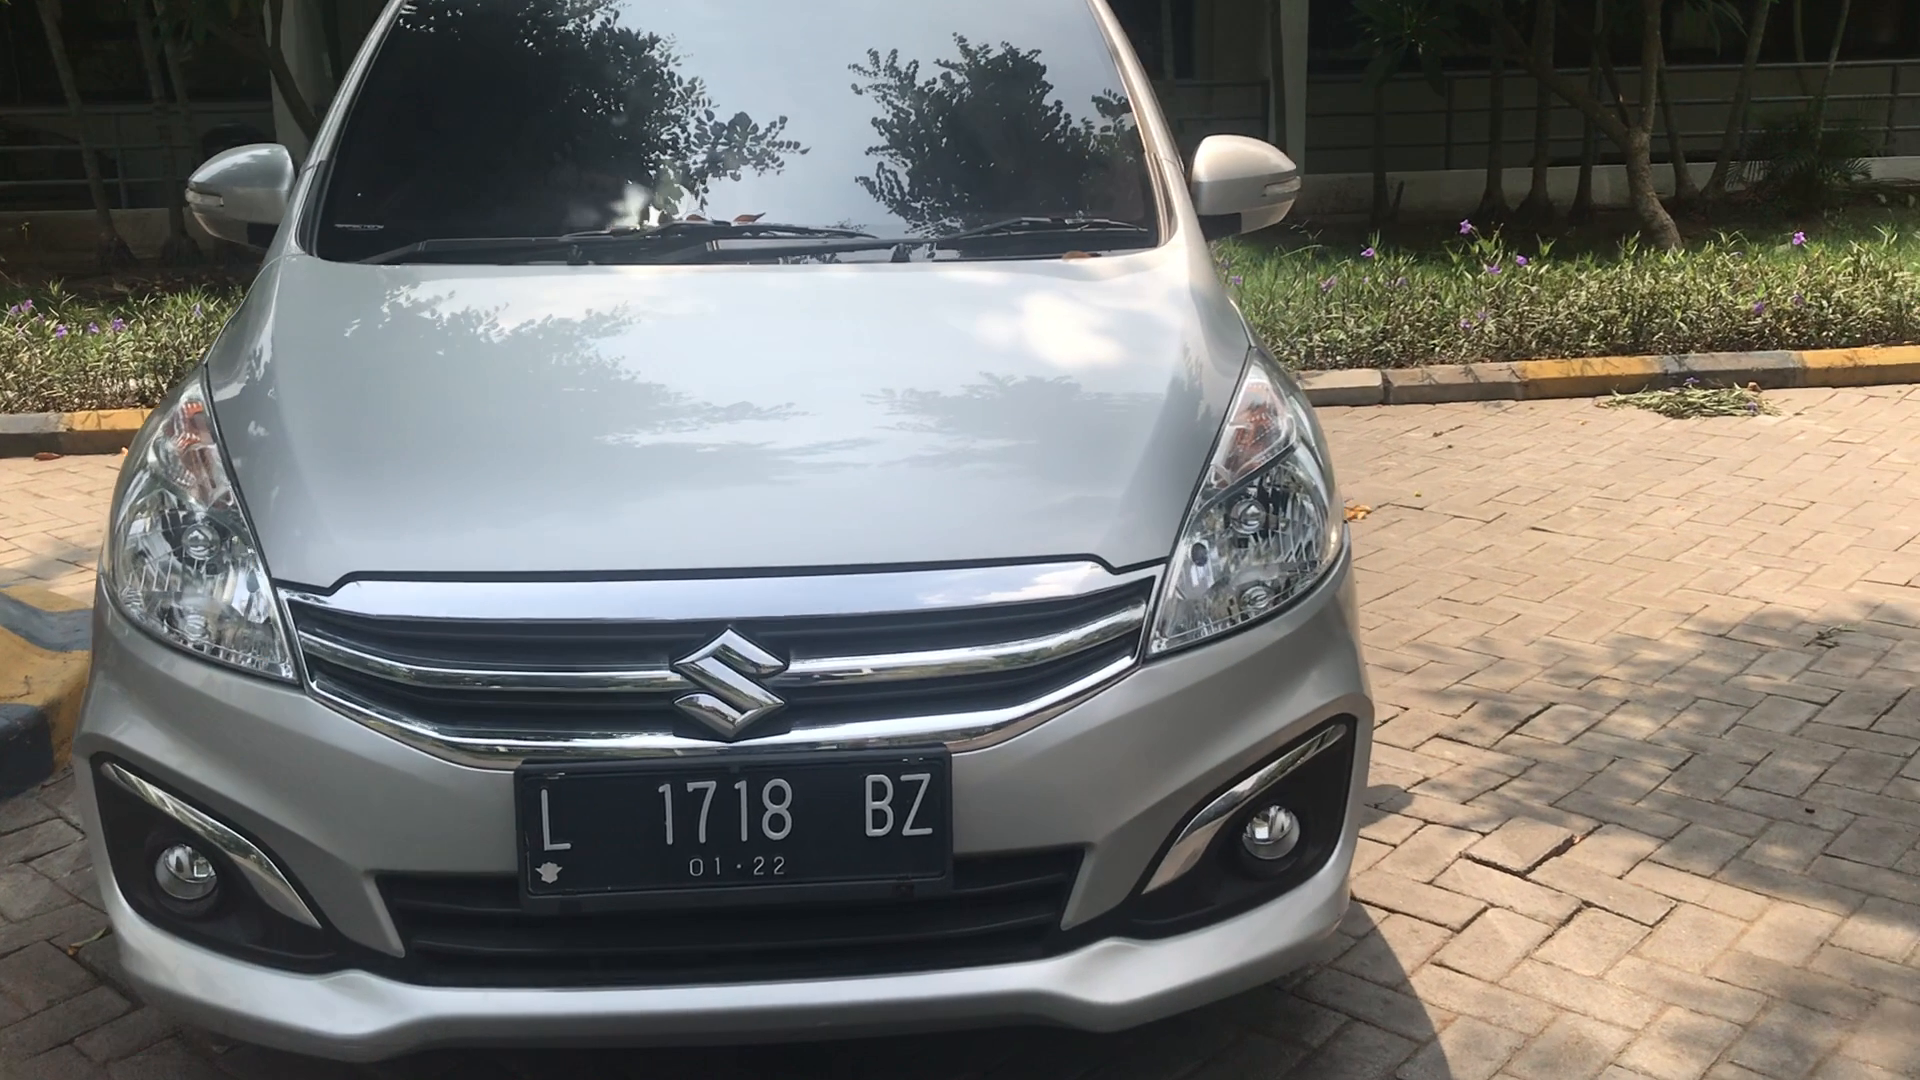plate: (520, 762, 952, 890)
